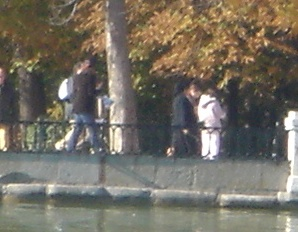person: (68, 60, 103, 155), (195, 82, 227, 161)
